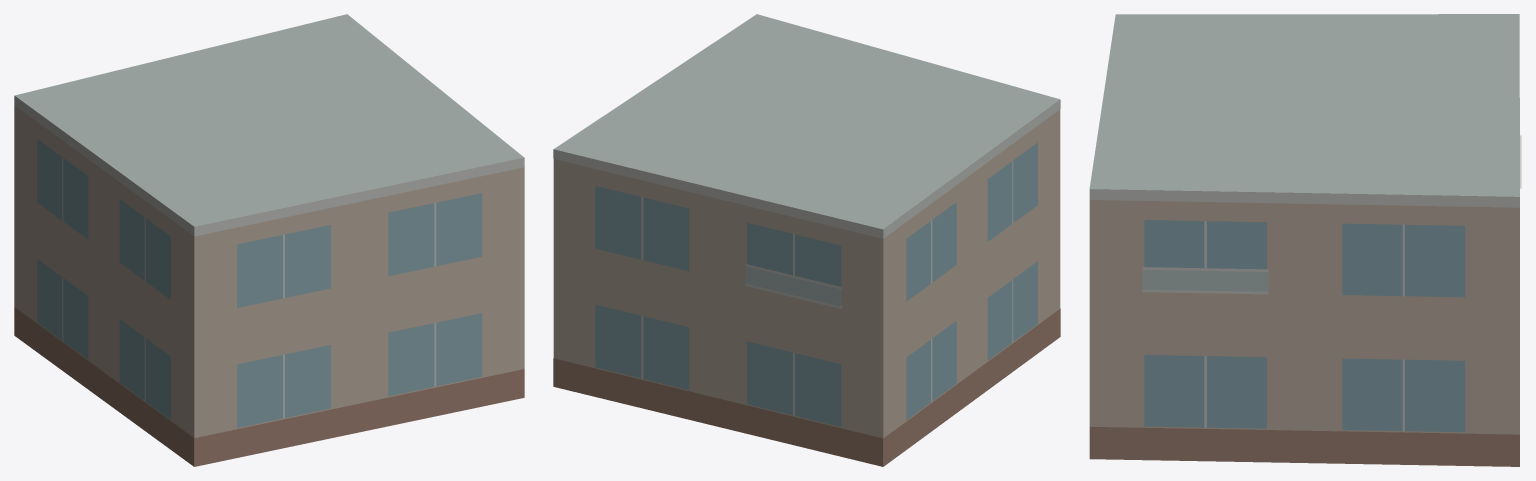
The model's file is survey-upis-33038930.glb.
3 views of the same model, side by side, from view 1: azimuth 30°, elevation 25°; view 2: azimuth 150°, elevation 25°; view 3: azimuth 270°, elevation 25° (orthographic). The views are drawn at different scales.
Parts seen in each view (by area): view 1: survey-upis-33038930.tmp; view 2: survey-upis-33038930.tmp; view 3: survey-upis-33038930.tmp.
Boxes of the visible parts, left/top/right/bottom form: survey-upis-33038930.tmp: left=14, top=14, right=524, bottom=466; survey-upis-33038930.tmp: left=553, top=14, right=1060, bottom=466; survey-upis-33038930.tmp: left=1089, top=14, right=1521, bottom=466.
Bounding box in the file's own units: 8.87 × 6.1 × 8.86.
